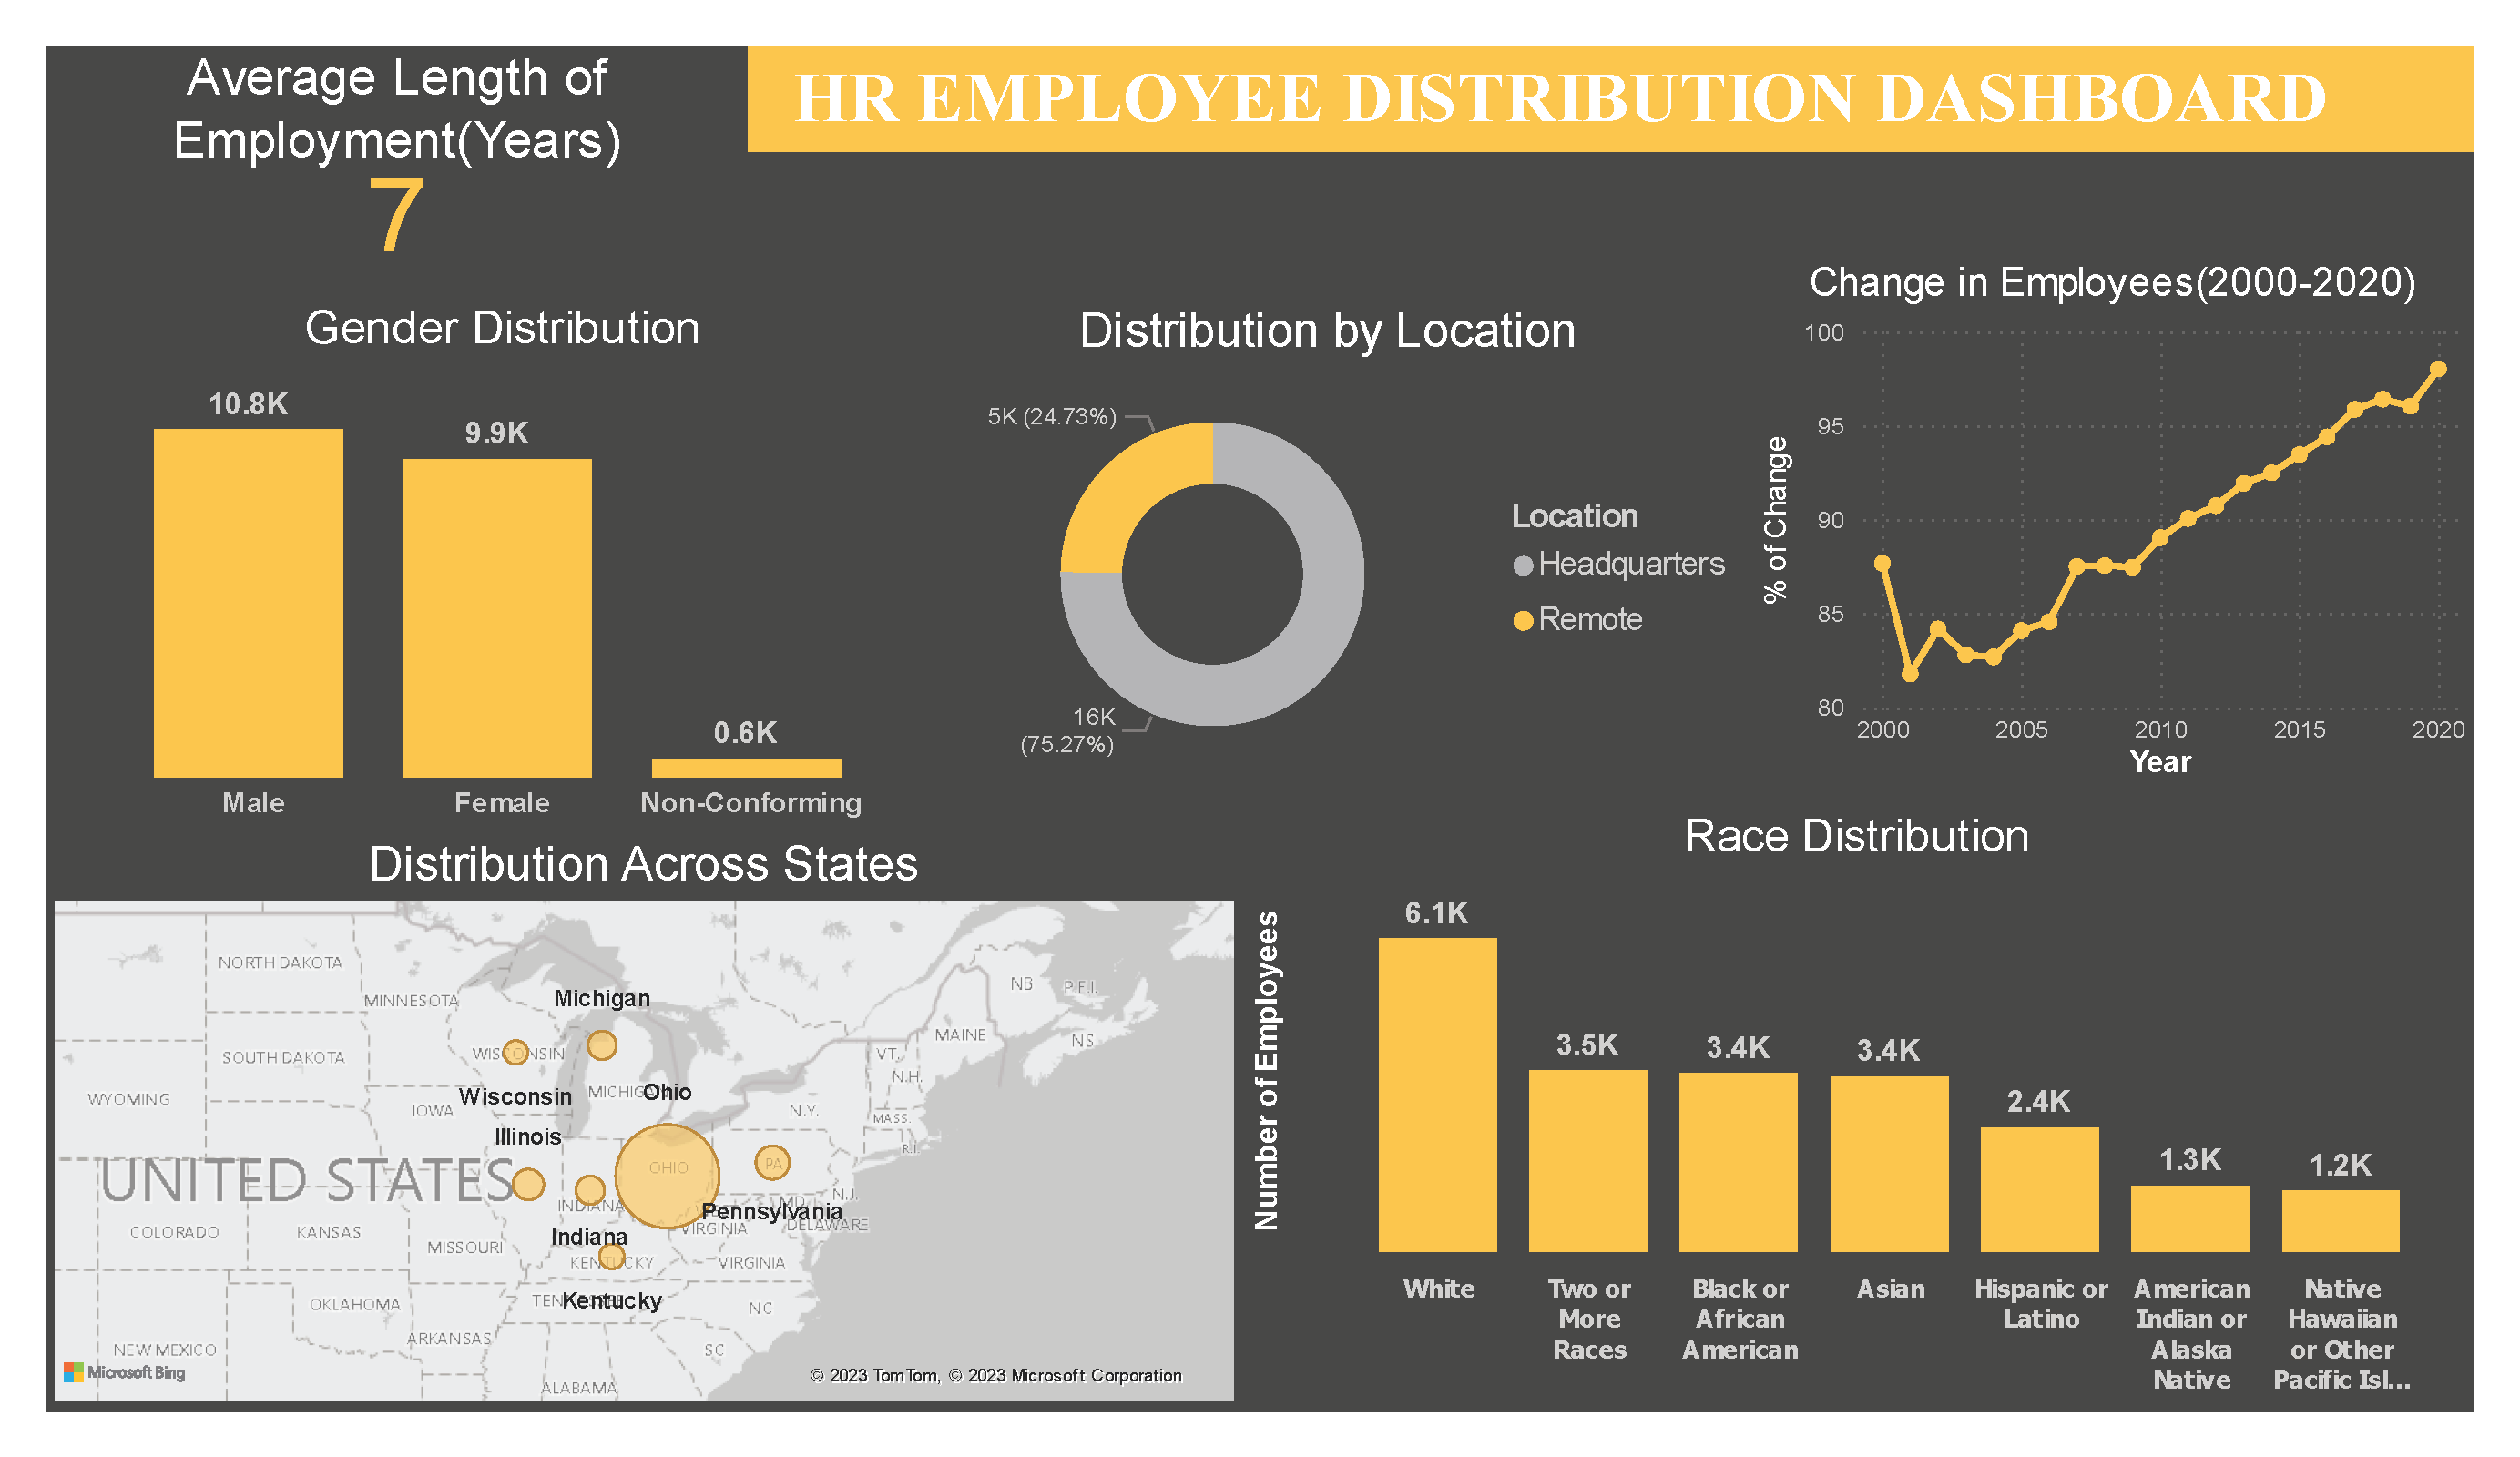

What the dashboard file says about the page in this screenshot:
{"tool":"powerbi","page":{"name":"Page 1","canvas":[1280,720],"ordinal":0},"visuals":[{"type":"clusteredColumnChart","title":"Gender Distribution","fields":{"Category":["gender.gender"],"Y":["Sum(gender.count)"]},"box":[0,135.8,481.6,281.3],"z":0},{"type":"donutChart","title":"Distribution by Location","fields":{"Y":["Sum(location.count)"],"Category":["location.location"]},"box":[452.8,135.8,446,256.6],"z":1000},{"type":"columnChart","title":"Race Distribution","fields":{"Category":["race.race"],"Y":["Sum(race.count)"]},"box":[630.6,404.2,648.6,315.3],"z":2000},{"type":"map","title":"Distribution Across States","fields":{"Category":["state.location_state"],"Size":["Sum(state.count)"]},"box":[0,416.7,630.6,302.8],"z":3000},{"type":"textbox","box":[317,0,963,56],"z":4000},{"type":"lineChart","title":"Change in Employees(2000-2020)","fields":{"Category":["employee_change.year"],"Y":["Sum(employee_change.net_change_percent)"]},"box":[898.8,112.5,381.5,279.9],"z":5000},{"type":"card","title":"Average Length of Employment(Years)","fields":{"Values":["Sum(avg_length_employment.avg_length_of_employment)"]},"box":[0,0,370.5,112.5],"z":6000}]}

Visuals, with their boxes in screenshot pixels (x1, y1, x2, y2):
"Gender Distribution" clusteredColumnChart: [x1=46, y1=303, x2=959, y2=837]
"Distribution by Location" donutChart: [x1=904, y1=303, x2=1751, y2=790]
"Race Distribution" columnChart: [x1=1242, y1=812, x2=2473, y2=1411]
"Distribution Across States" map: [x1=46, y1=836, x2=1242, y2=1411]
textbox: [x1=648, y1=46, x2=2474, y2=152]
"Change in Employees(2000-2020)" lineChart: [x1=1751, y1=259, x2=2474, y2=790]
"Average Length of Employment(Years)" card: [x1=46, y1=46, x2=749, y2=259]
